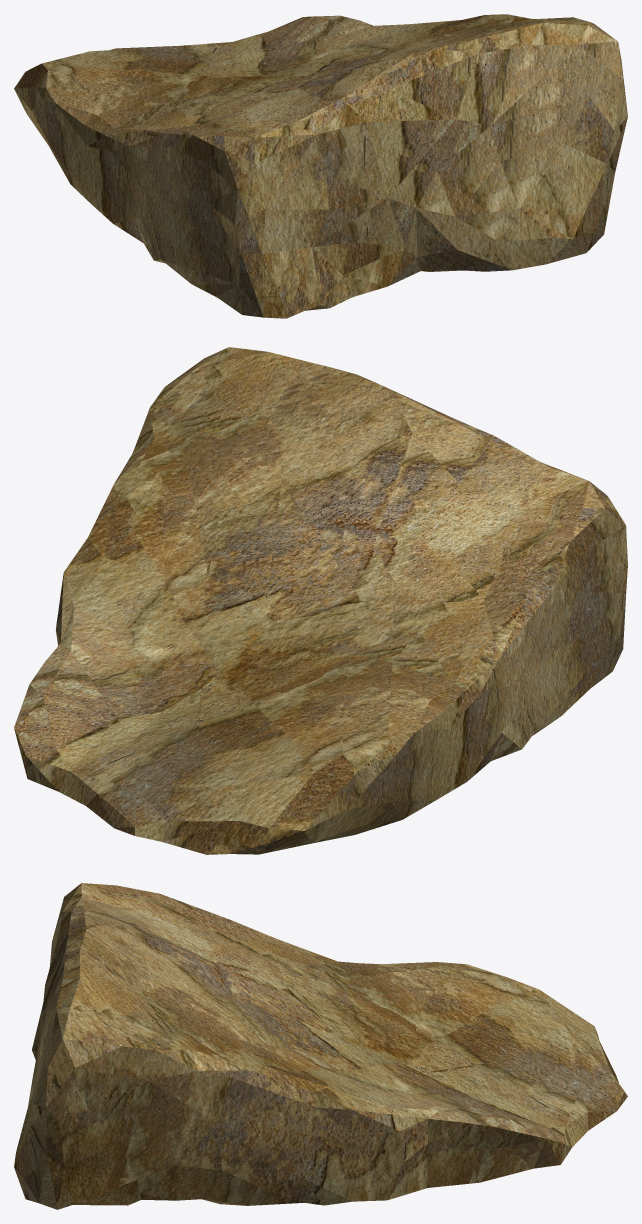
File: Stone1.fbx
3 renders of one model, top to bottom at view 1: azimuth 30°, elevation 25°; view 2: azimuth 150°, elevation 25°; view 3: azimuth 270°, elevation 25°, orthographic. The views are drawn at different scales.
Parts seen in each view (by area): view 1: skp29C1; view 2: skp29C1; view 3: skp29C1.
Boxes of the visible parts, <box> form: skp29C1: <box>14,14,627,318</box>; skp29C1: <box>14,347,627,854</box>; skp29C1: <box>14,883,627,1209</box>.
Size of the model in its own units: 0.6388 by 0.3465 by 0.8725.
